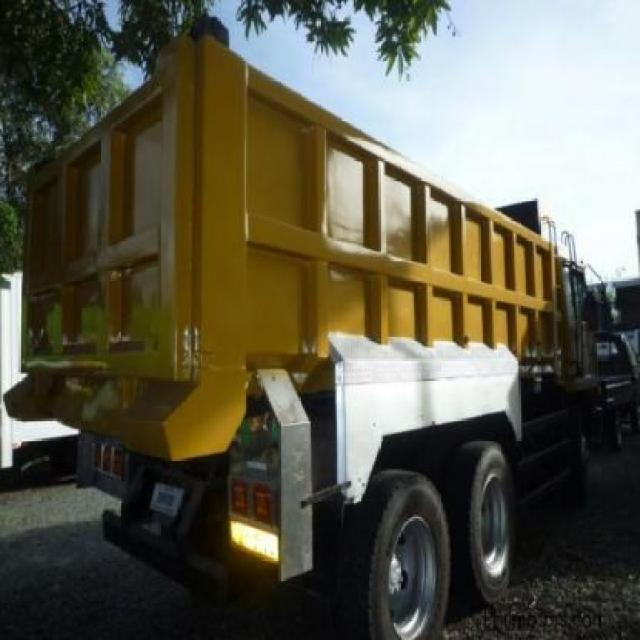truck: (6, 14, 589, 640)
